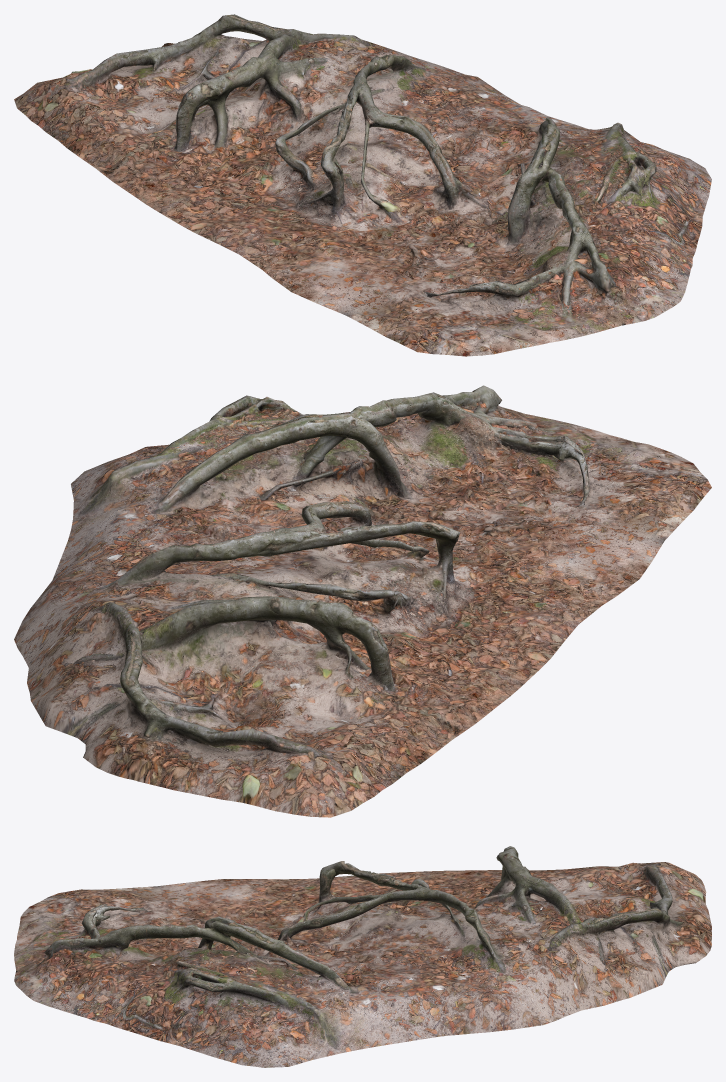
File: sm_Roots_03_03.fbx
3 views of the same model, one above another, from view 1: azimuth 30°, elevation 25°; view 2: azimuth 150°, elevation 25°; view 3: azimuth 270°, elevation 25° (orthographic). The views are drawn at different scales.
Visible parts, largest first — view 1: sm_Roots_03_03_LOD0; view 2: sm_Roots_03_03_LOD0; view 3: sm_Roots_03_03_LOD0.
Boxes of the visible parts, <box> form: sm_Roots_03_03_LOD0: <box>14,14,711,356</box>; sm_Roots_03_03_LOD0: <box>14,385,711,817</box>; sm_Roots_03_03_LOD0: <box>14,846,711,1067</box>.
Bounding box in the file's own units: 183 × 273 × 30.83.
